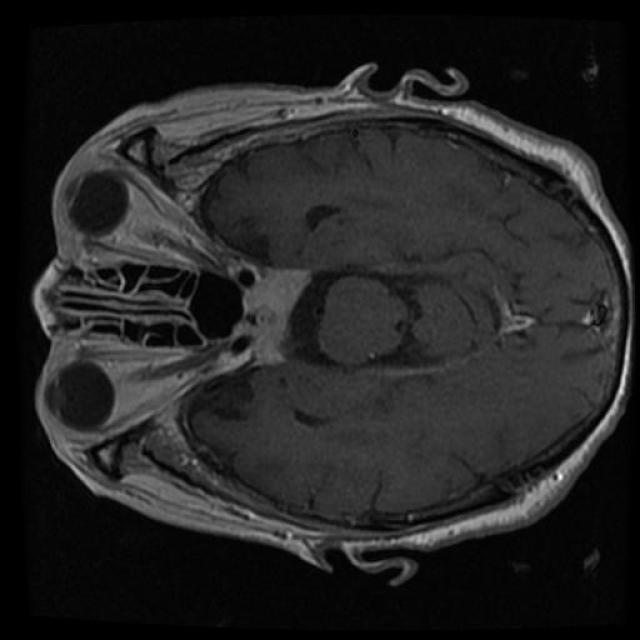Pituitary: (232, 270, 309, 364)
